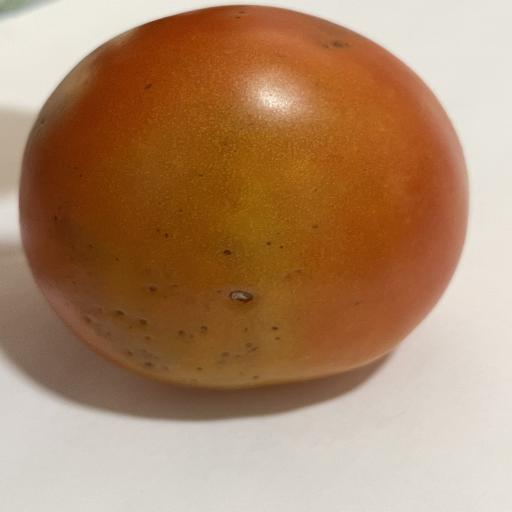unripe: (19, 5, 468, 388)
